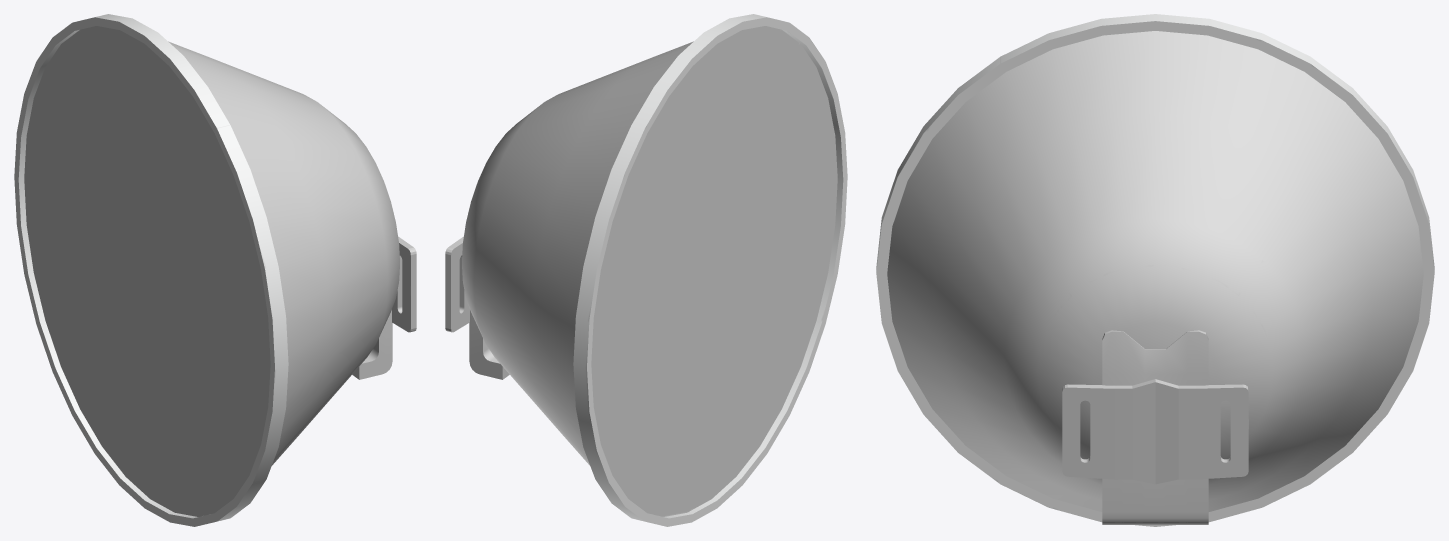
The model's file is Microwave.fbx.
3 renders of one model, left to right at view 1: azimuth 30°, elevation 25°; view 2: azimuth 150°, elevation 25°; view 3: azimuth 270°, elevation 25°, orthographic. The views are drawn at different scales.
Visible parts, largest first — view 1: Cylinder; view 2: Cylinder; view 3: Cylinder.
Part boxes in pixels (x1,y1,x2,y2): Cylinder: (14, 14, 416, 526); Cylinder: (445, 14, 847, 526); Cylinder: (876, 14, 1434, 526).
Bounding box in the file's own units: 57.26 × 113 × 113.
Materials: 1 (1 with a texture image).
